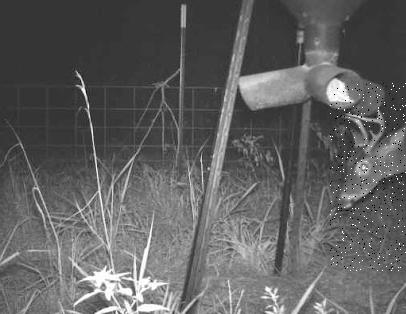Deer: (330, 83, 406, 271)
